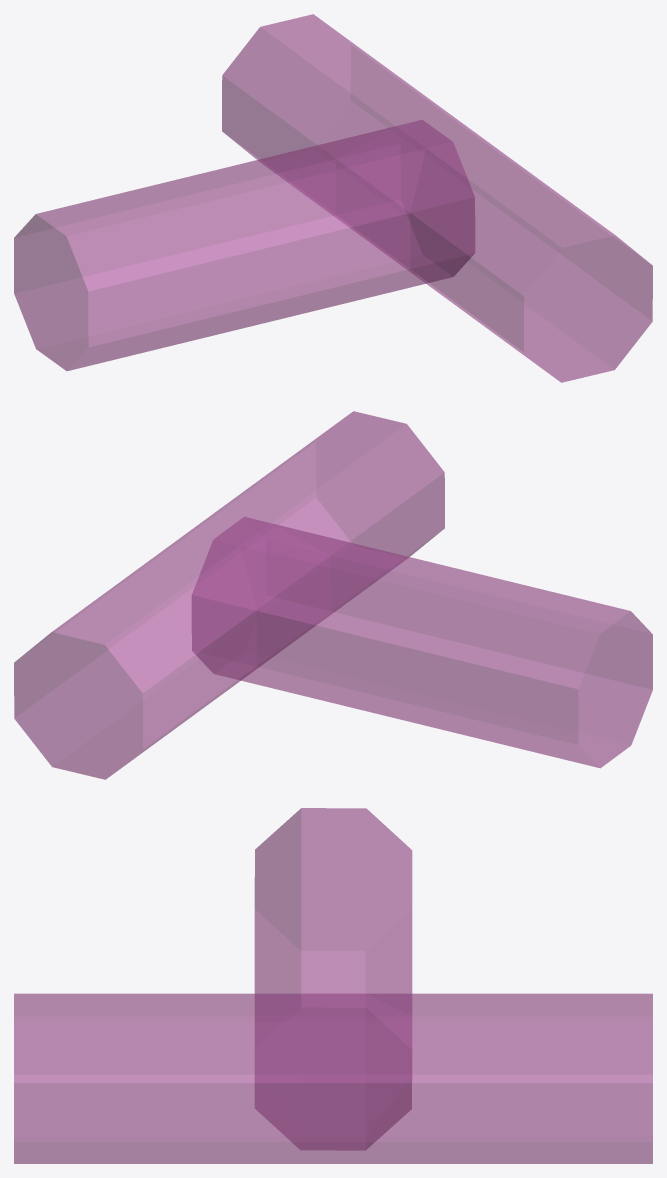
File: SM_Bld_Pipe_Small_TJunction_01_Collision.fbx
3 renders of one model, top to bottom at view 1: azimuth 30°, elevation 25°; view 2: azimuth 150°, elevation 25°; view 3: azimuth 270°, elevation 25°, orthographic. The views are drawn at different scales.
Visible parts, largest first — view 1: SM_Bld_Pipe_Small_TJunction_01_Collision; view 2: SM_Bld_Pipe_Small_TJunction_01_Collision; view 3: SM_Bld_Pipe_Small_TJunction_01_Collision.
Boxes of the visible parts, left/top/right/bottom form: SM_Bld_Pipe_Small_TJunction_01_Collision: left=14, top=14, right=652, bottom=382; SM_Bld_Pipe_Small_TJunction_01_Collision: left=14, top=411, right=652, bottom=779; SM_Bld_Pipe_Small_TJunction_01_Collision: left=14, top=808, right=652, bottom=1163.
Size of the model in its own units: 176 by 50.35 by 204.
